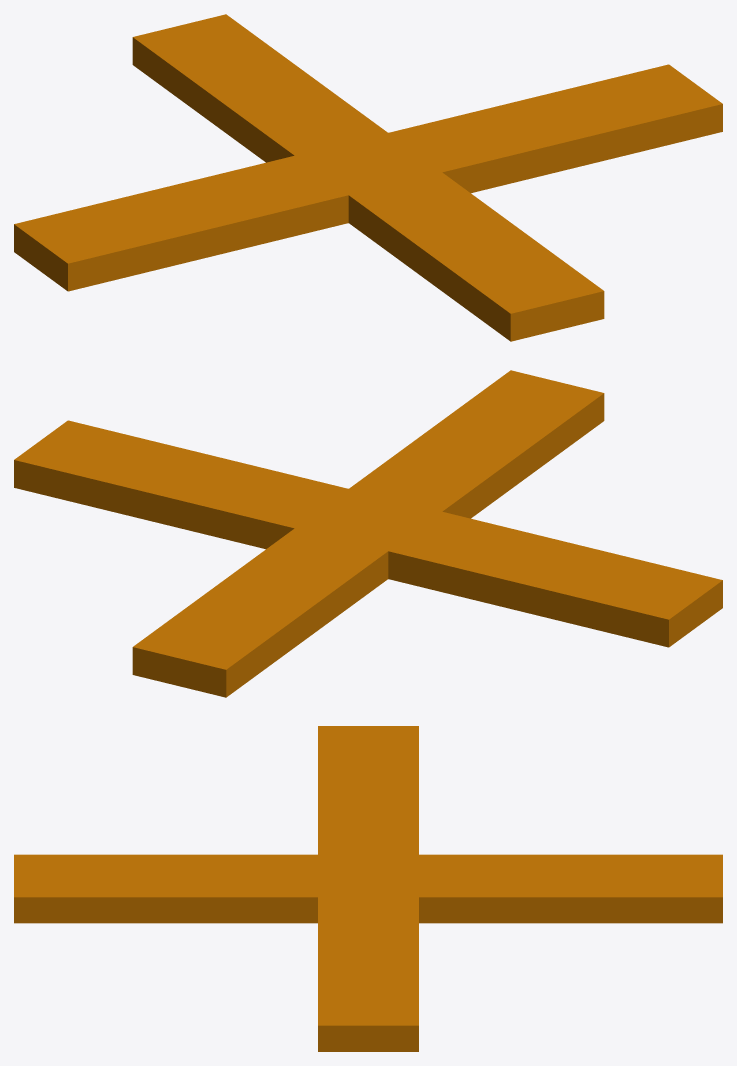
Rendered from 10fieldYellow.obj.
The picture shows the model from 3 angles, top to bottom: view 1: azimuth 30°, elevation 25°; view 2: azimuth 150°, elevation 25°; view 3: azimuth 270°, elevation 25°; orthographic projection. The views are drawn at different scales.
Parts seen in each view (by area): view 1: 立方体, 立方体.001; view 2: 立方体, 立方体.001; view 3: 立方体.001, 立方体.
Part boxes in pixels (x1,y1,x2,y2): 立方体: [14, 64, 722, 291]; 立方体.001: [132, 14, 604, 341]; 立方体: [14, 420, 722, 647]; 立方体.001: [132, 370, 604, 697]; 立方体.001: [14, 854, 722, 923]; 立方体: [318, 726, 418, 1051].
Bounding box in the file's own units: 7.22 × 0.2936 × 7.22.
